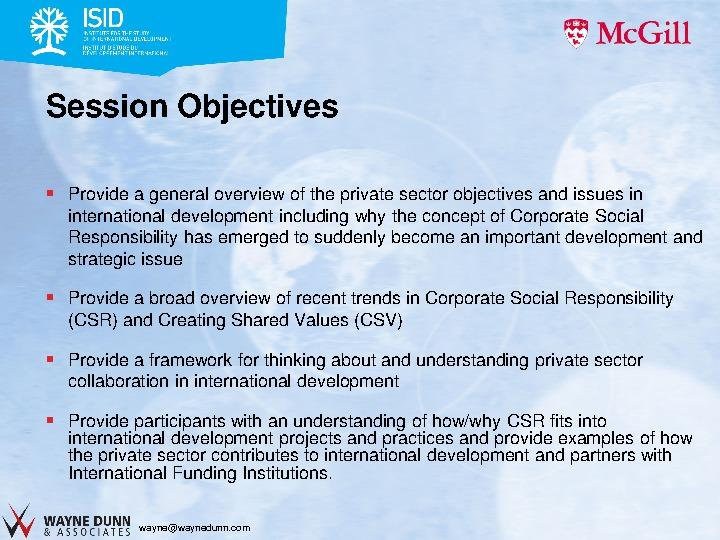paragraph: (36, 163, 713, 495)
subtitle: (41, 505, 259, 540)
title: (37, 81, 362, 136)
